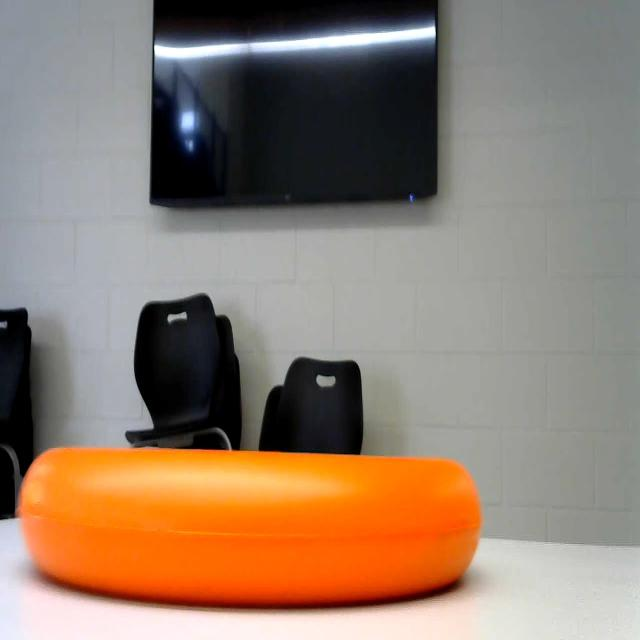note: (19, 420, 496, 598)
